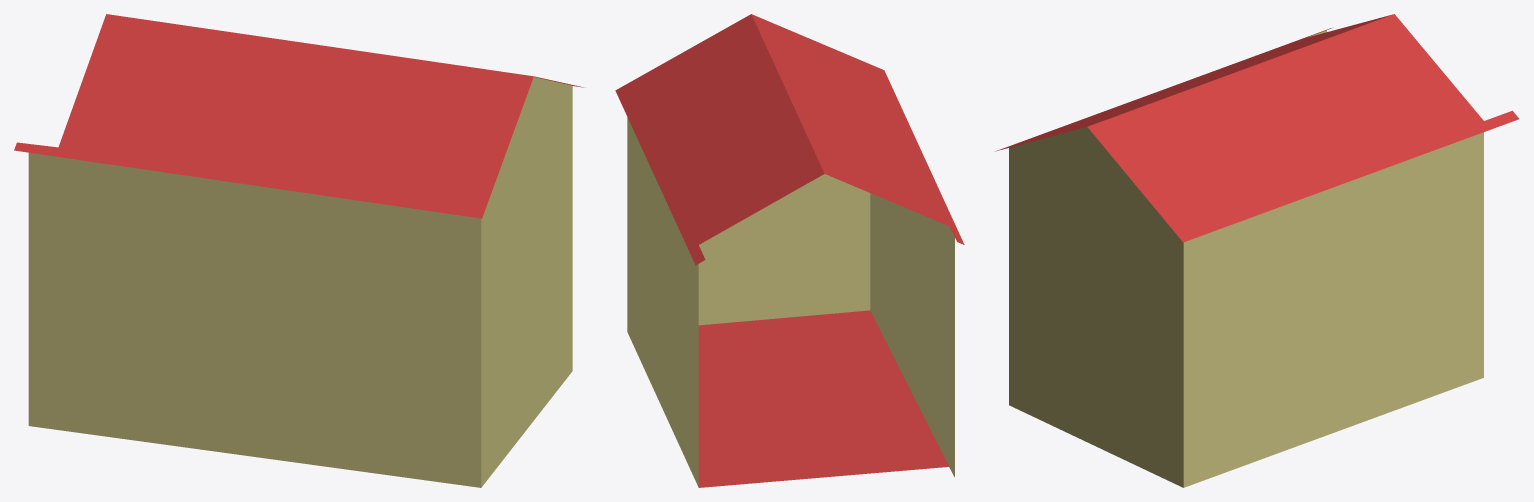
3 renders of one model, left to right at view 1: azimuth 30°, elevation 25°; view 2: azimuth 150°, elevation 25°; view 3: azimuth 270°, elevation 25°, orthographic. The views are drawn at different scales.
Size of the model in its own units: 14.82 by 15.26 by 10.26.
